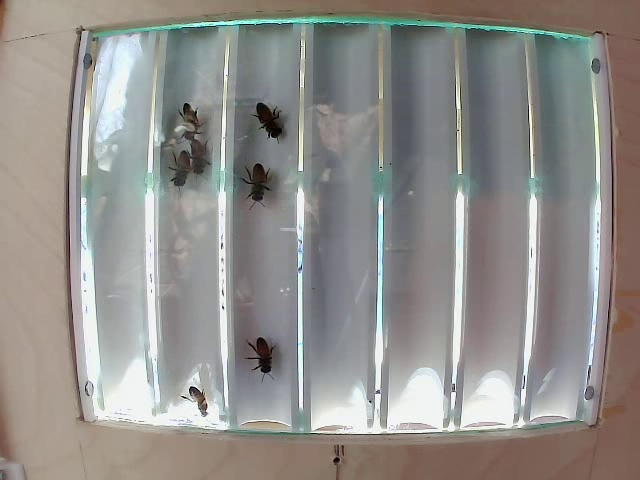bee: (234, 326, 295, 378), (242, 140, 279, 206), (174, 376, 222, 422), (260, 82, 297, 136), (170, 98, 205, 142), (182, 136, 218, 171), (169, 141, 195, 183)
